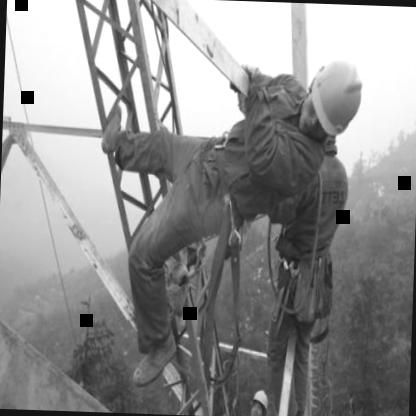helmet: (300, 50, 372, 149), (249, 384, 269, 416)
